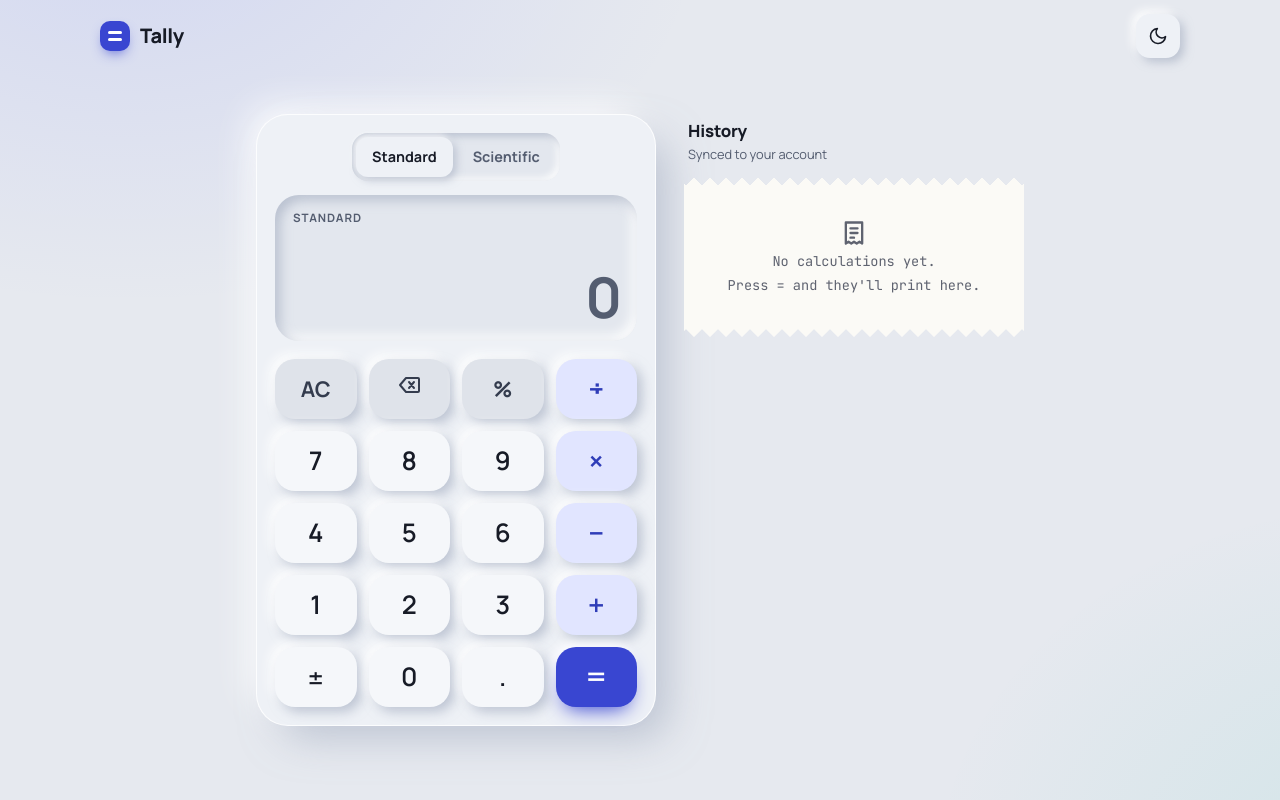
it: history (local mode) › uses the store's (server) result when it differs from the local one
The image size is (1280, 800).
What coordinates should you click on to do the following:
click the button "2"
I would click on:
 (409, 605)
Its box is [368,575,450,635].
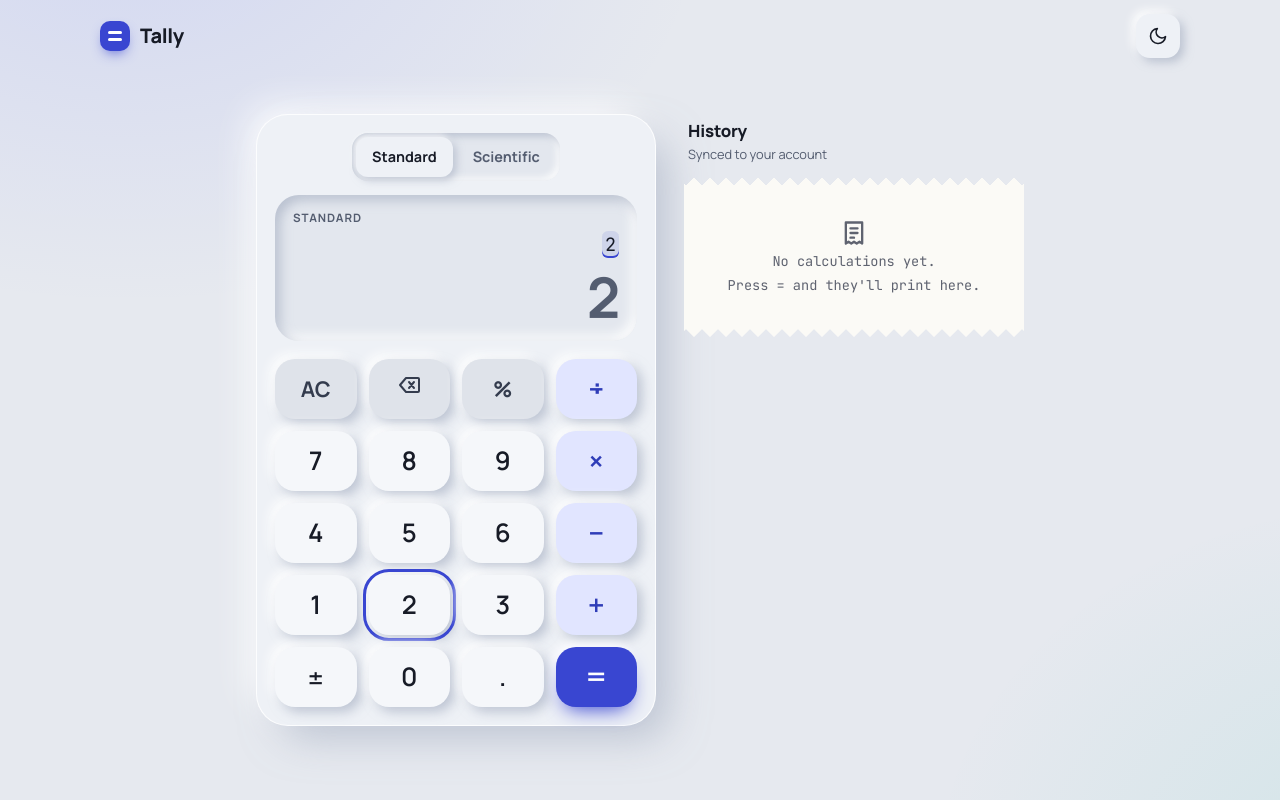
What coordinates should you click on to do the following:
click the button named "plus"
I would click on:
 (596, 605)
Its box is [556,575,637,635].
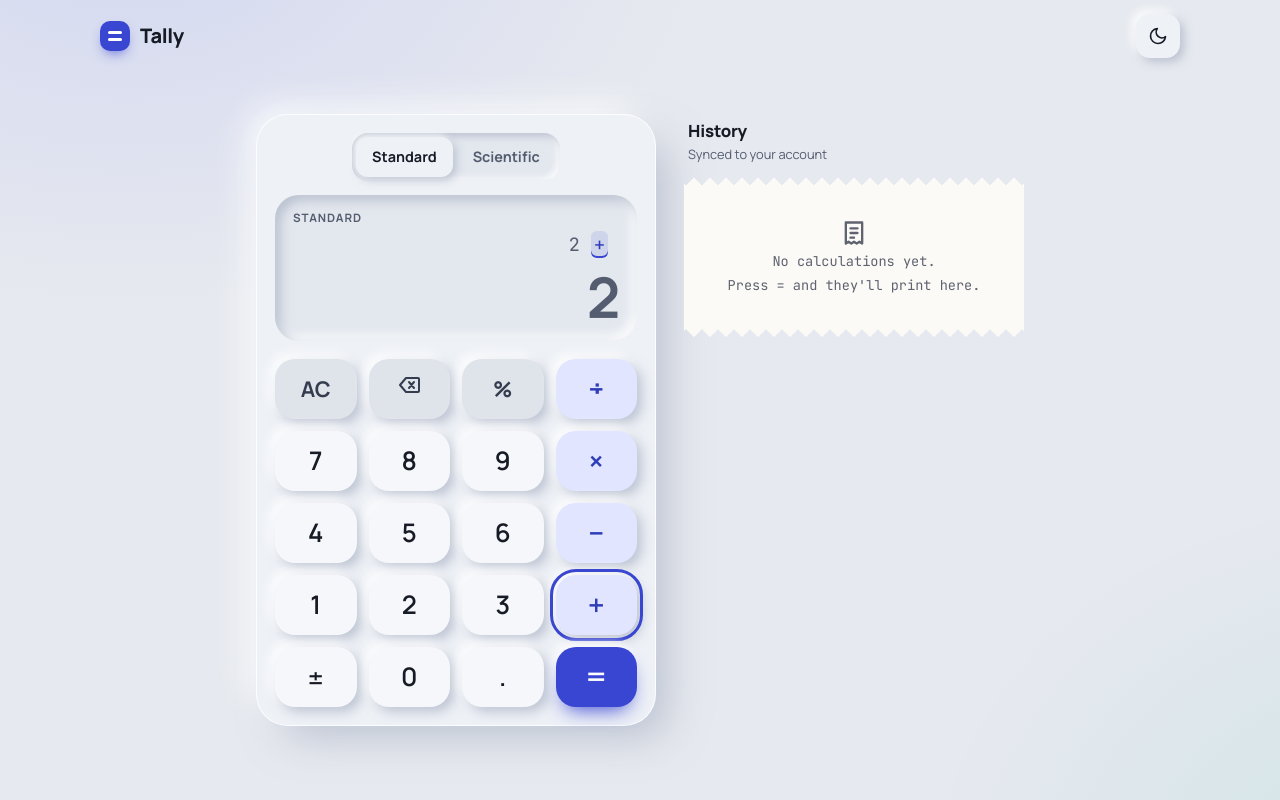
What coordinates should you click on to do the following:
click the button "3"
I would click on:
 (503, 605)
Its box is [462,575,544,635].
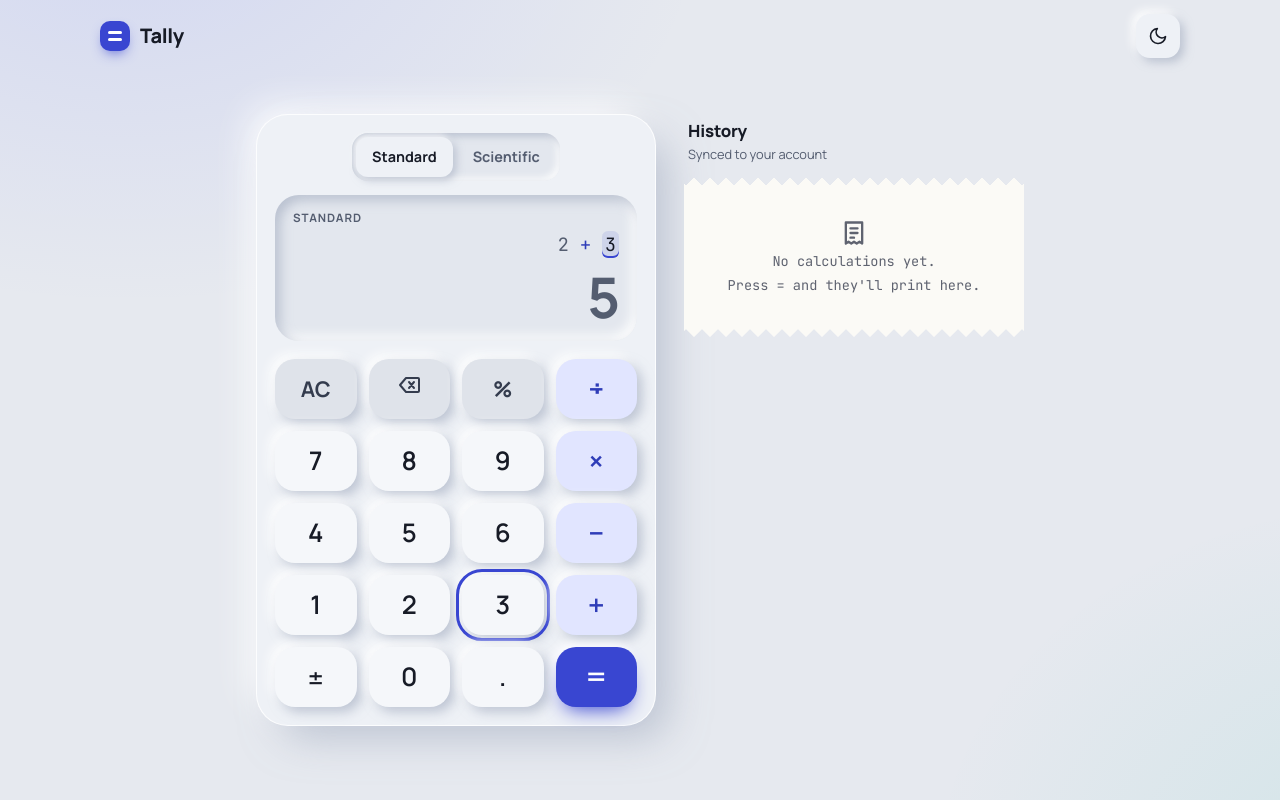
What coordinates should you click on to do the following:
click the button named "equals"
I would click on:
 (596, 677)
Its box is [556,647,637,707].
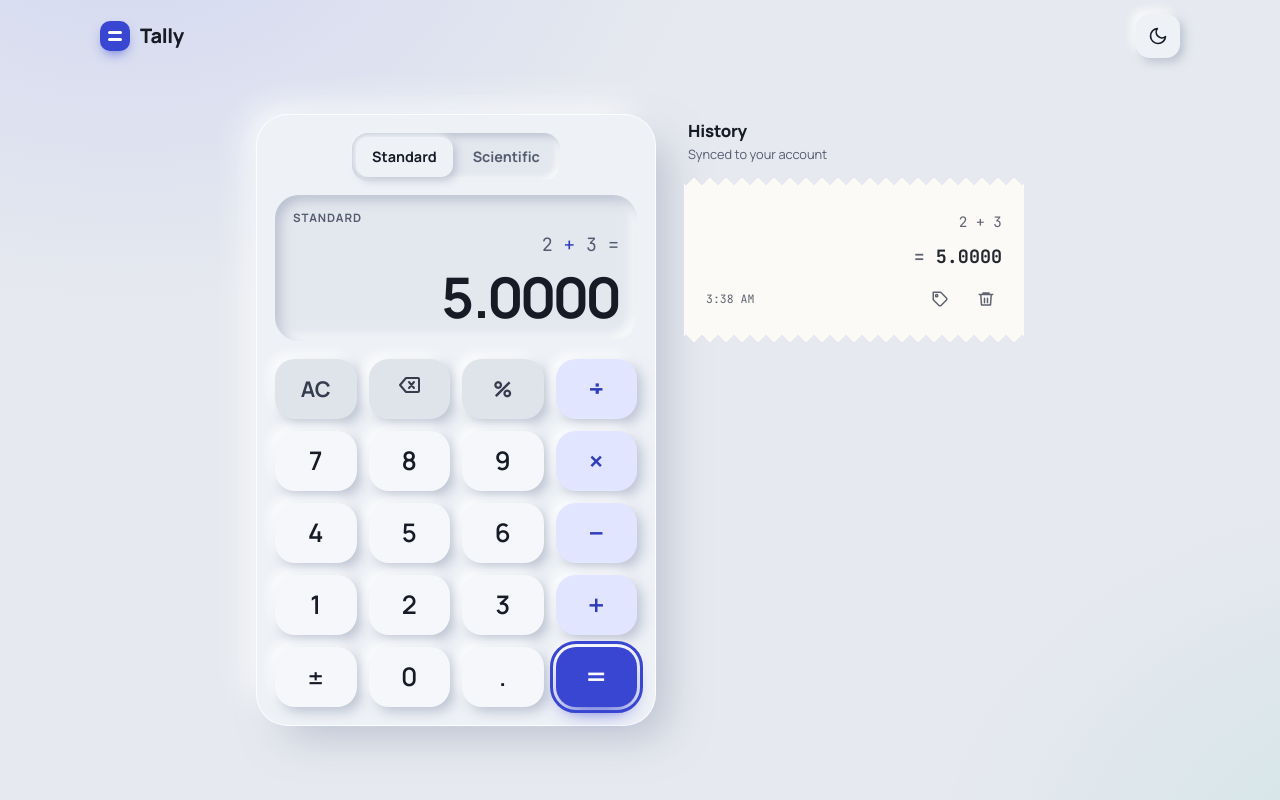
Expected: the text "Synced to your account" is shown, [688,145,827,164]
Expected: the text with test id "result" reads "5.0000", [440,258,619,335]
